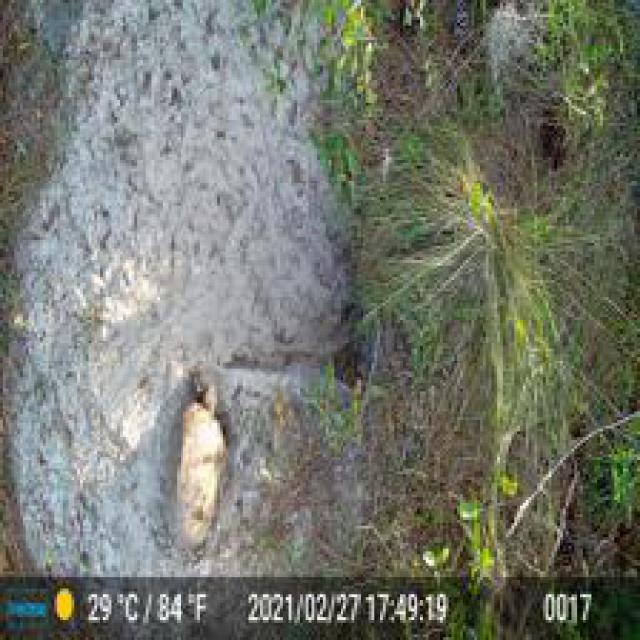tortoise: (163, 375, 229, 552)
